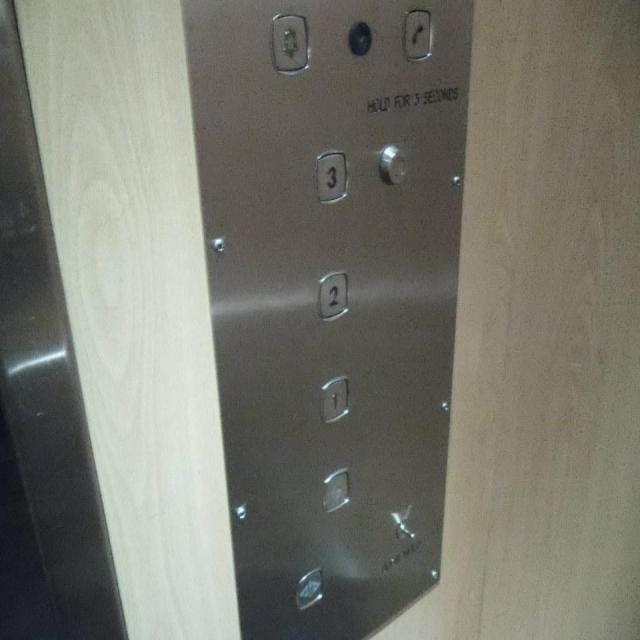1: (320, 375, 349, 422)
2: (317, 268, 349, 322)
3: (313, 148, 350, 204)
G: (320, 465, 350, 514)
alarm: (268, 10, 310, 74)
call: (400, 6, 432, 63)
keyhole: (379, 144, 408, 187)
open: (295, 565, 324, 611)
switch: (392, 514, 417, 546)
